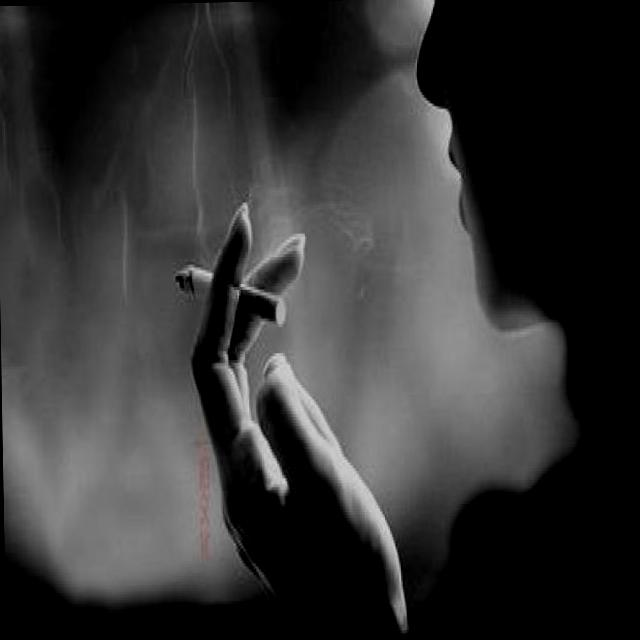smoke: (165, 242, 298, 334)
